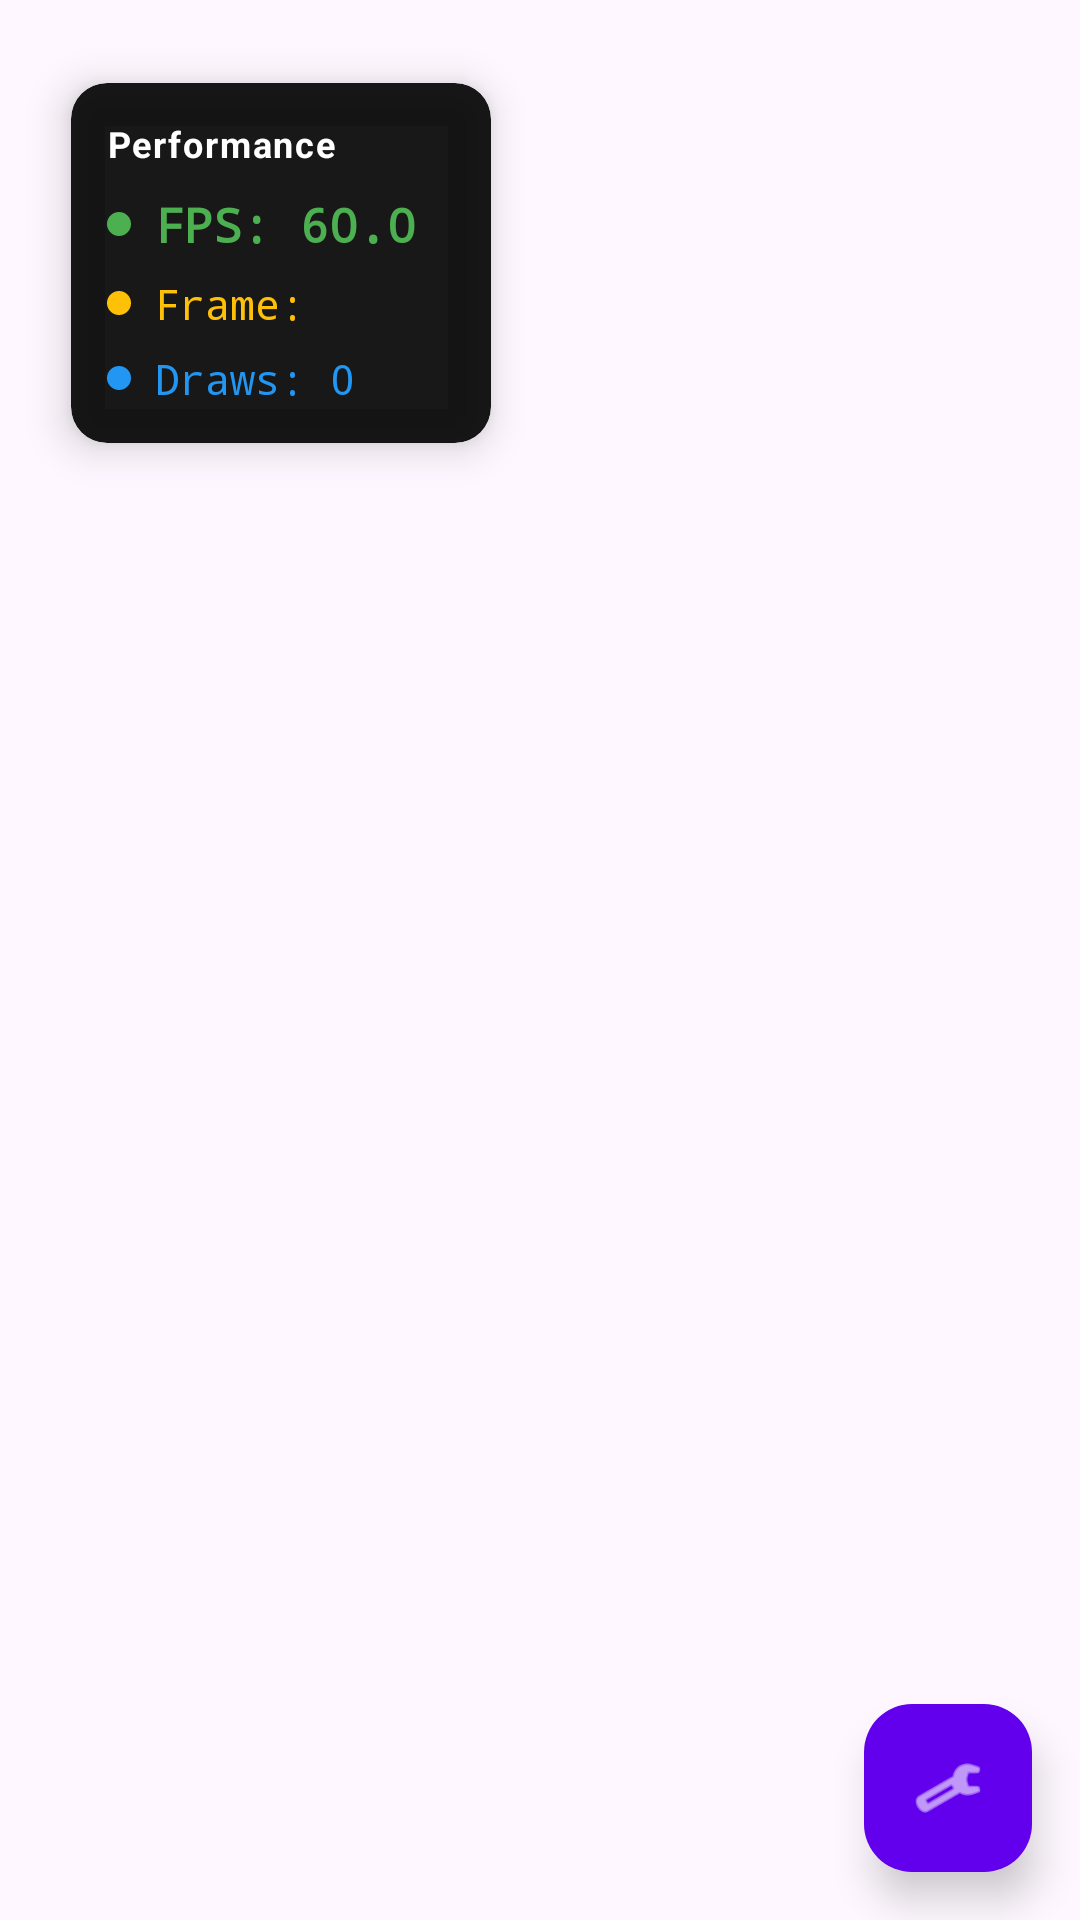

Screen size 1080w x 1920h. Icon name, then its box in pixels as (x1, y1, x2, y2):
manage: (864, 1704, 1032, 1872)
